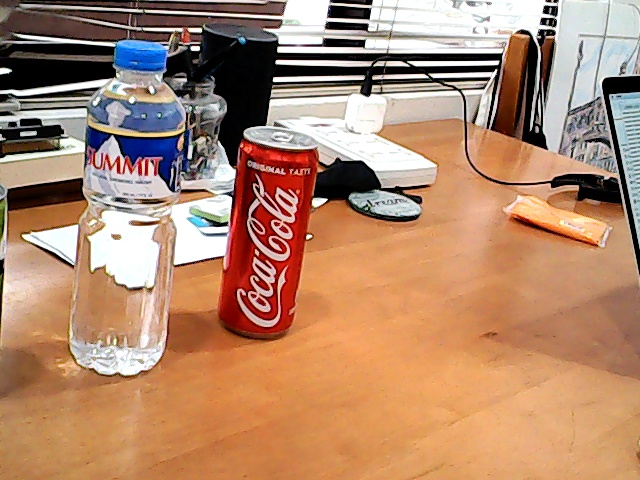Cola: (207, 118, 341, 358)
Summit Water: (53, 31, 205, 391)
